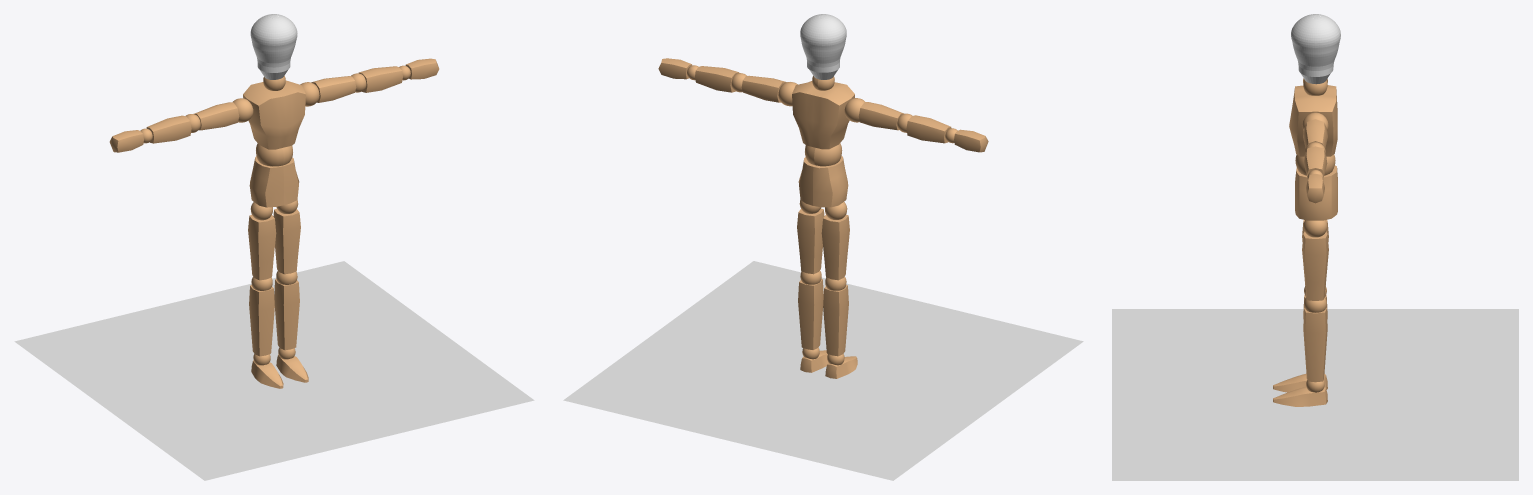
Rendered from gameCharacter.fbx.
The picture shows the model from 3 angles, left to right: view 1: azimuth 30°, elevation 25°; view 2: azimuth 150°, elevation 25°; view 3: azimuth 270°, elevation 25°; orthographic projection. The views are drawn at different scales.
Parts seen in each view (by area): view 1: BoneController, WoodMan, top part; view 2: BoneController, WoodMan, top part; view 3: BoneController, WoodMan, top part.
Boxes of the visible parts, x1=… form: BoneController: x1=14, y1=261, x2=534, y2=480; WoodMan: x1=109, y1=58, x2=439, y2=388; top part: x1=250, y1=14, x2=297, y2=72; BoneController: x1=563, y1=261, x2=1083, y2=480; WoodMan: x1=658, y1=58, x2=988, y2=378; top part: x1=800, y1=14, x2=846, y2=72; BoneController: x1=1112, y1=309, x2=1518, y2=480; WoodMan: x1=1273, y1=78, x2=1337, y2=406; top part: x1=1291, y1=14, x2=1340, y2=76.
Bounding box in the file's own units: 200 × 205 × 200.
